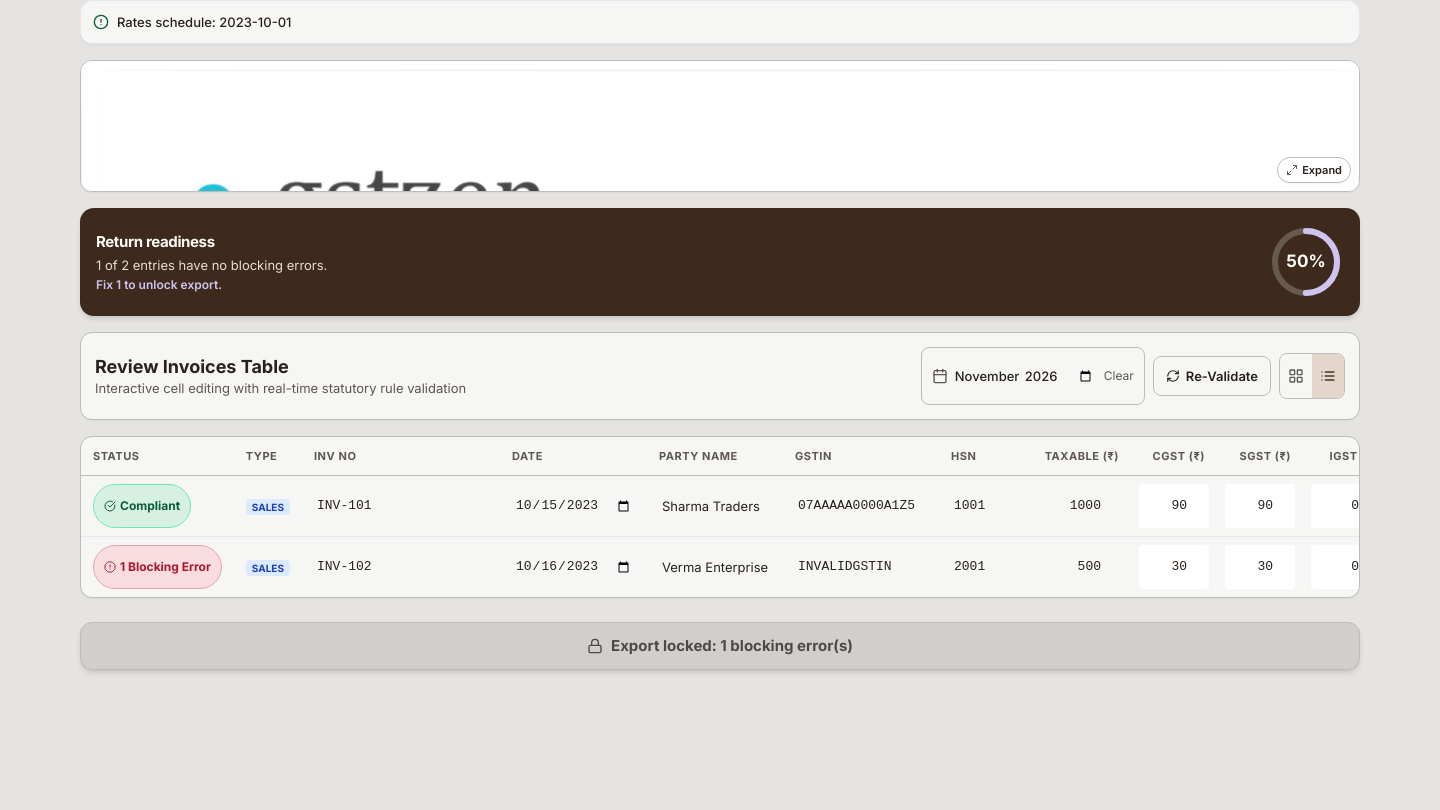
Test: ReviewTable Component › opens modal drawer with error details when clicking on badge
Expected: the text "1 Blocking Error" is shown, [120,559,211,575]
// Click on the blocking error badge
Click the button "1 Blocking Error". click: (157, 567)
box: [93,545,222,589]
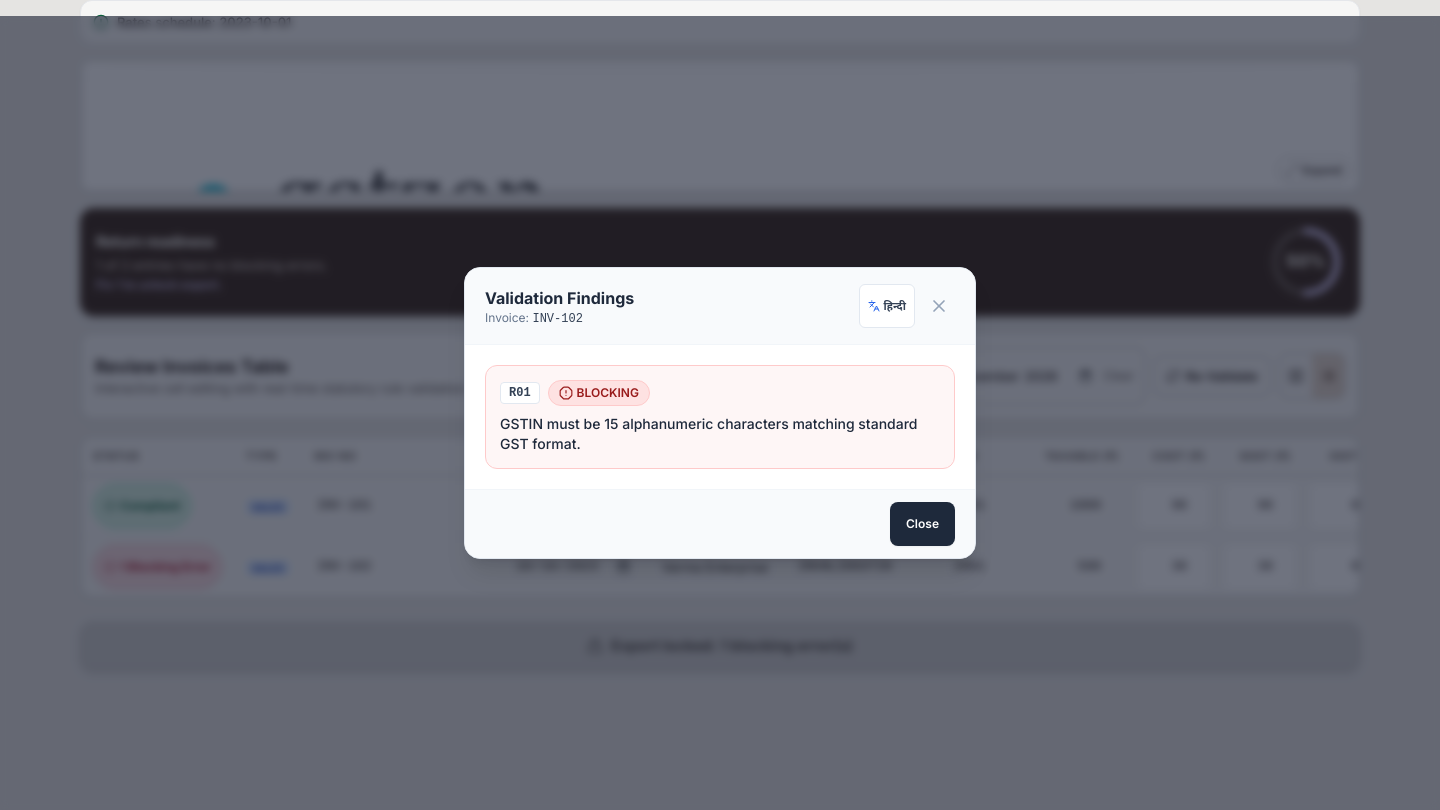
Expected: the heading "Validation Findings" is shown, [485,286,634,310]
Expected: the text "GSTIN must be 15 alphanumeric characters" is shown, [500,415,918,452]
Expected: the text "R01" is shown, [500,382,540,404]
// Click close button
Click the button "Close". click: (922, 524)
box: [890,502,955,546]
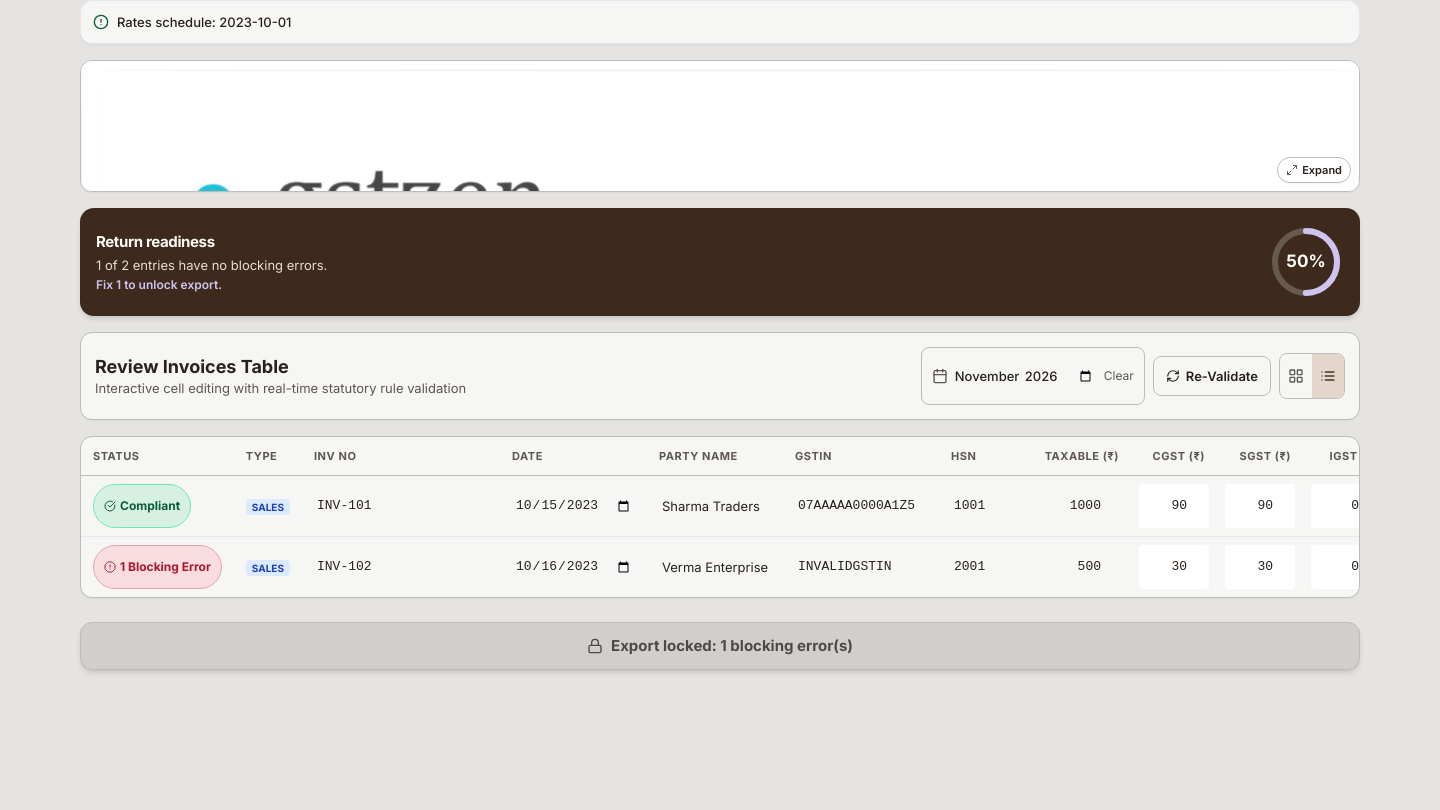
Expected: the heading "Validation Findings" is gone
